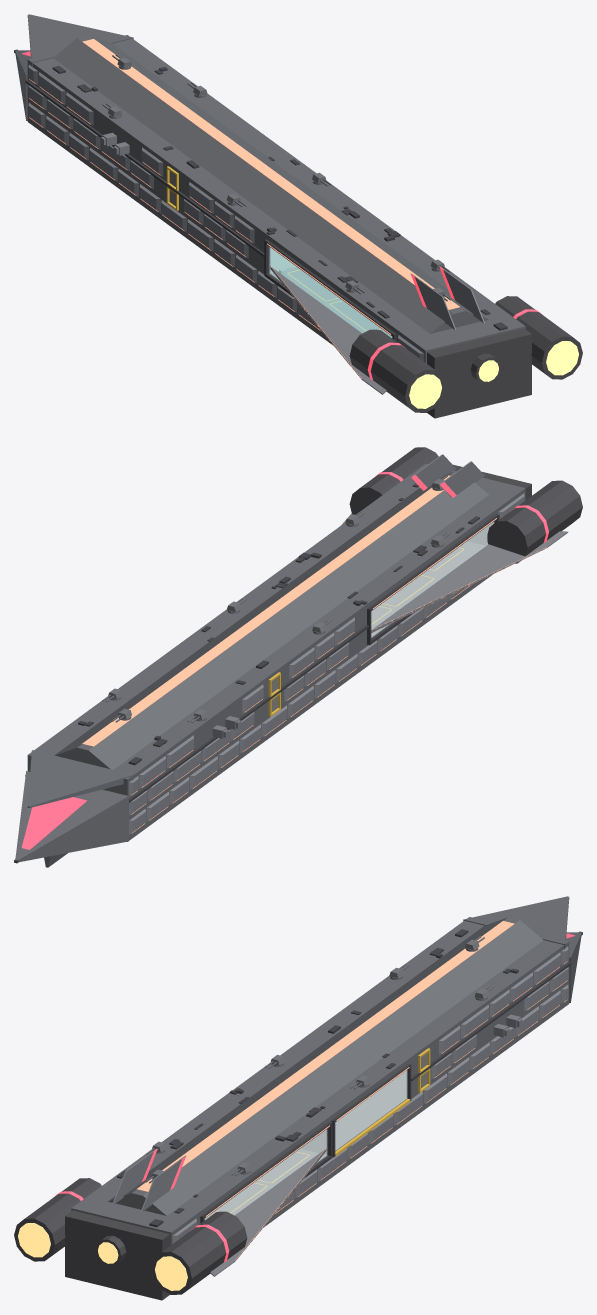
Rendered from ship_LARGE.glb.
3 views of the same model, one above another, from view 1: azimuth 30°, elevation 25°; view 2: azimuth 150°, elevation 25°; view 3: azimuth 330°, elevation 25° (orthographic).
Parts seen in each view (by area): view 1: LARGE_Hull-col, LARGE_Armor, LARGE_Engines, LARGE_Lights, LARGE_EngineGlow, LARGE_Trim, LARGE_HangarShield_Port, LARGE_Decks-col, LARGE_Details, LARGE_Accent; view 2: LARGE_Hull-col, LARGE_Armor, LARGE_Engines, LARGE_Lights, LARGE_HangarShield_Port, LARGE_Trim, LARGE_Accent, LARGE_Decks-col, LARGE_Details; view 3: LARGE_Hull-col, LARGE_Engines, LARGE_Armor, LARGE_Lights, LARGE_Trim, LARGE_EngineGlow, LARGE_CargoBayShield, LARGE_CargoBayDoor-col, LARGE_HangarShield_Starboard, LARGE_Decks-col, LARGE_Details, LARGE_Hazard (+1 smaller).
Part boxes in pixels (x1,y1,x2,y2): LARGE_Hull-col: [15, 14, 525, 412]; LARGE_Armor: [28, 64, 484, 394]; LARGE_Engines: [14, 49, 582, 418]; LARGE_Lights: [29, 39, 459, 378]; LARGE_EngineGlow: [409, 341, 578, 408]; LARGE_Trim: [25, 80, 396, 341]; LARGE_HangarShield_Port: [269, 247, 392, 337]; LARGE_Decks-col: [271, 267, 392, 337]; LARGE_Details: [52, 66, 507, 330]; LARGE_Accent: [22, 51, 543, 380]; LARGE_Hull-col: [15, 464, 525, 867]; LARGE_Armor: [129, 454, 568, 834]; LARGE_Engines: [14, 447, 582, 863]; LARGE_Lights: [82, 475, 546, 833]; LARGE_HangarShield_Port: [371, 522, 493, 636]; LARGE_Trim: [25, 514, 499, 802]; LARGE_Accent: [21, 472, 548, 849]; LARGE_Decks-col: [371, 541, 485, 635]; LARGE_Details: [78, 483, 479, 765]; LARGE_Hull-col: [71, 896, 581, 1294]; LARGE_Engines: [14, 931, 582, 1300]; LARGE_Armor: [112, 946, 568, 1276]; LARGE_Lights: [137, 921, 567, 1261]; LARGE_Trim: [200, 962, 571, 1223]; LARGE_EngineGlow: [18, 1223, 187, 1290]; LARGE_CargoBayShield: [335, 1070, 407, 1150]; LARGE_CargoBayDoor-col: [335, 1071, 406, 1149]; LARGE_HangarShield_Starboard: [204, 1129, 327, 1219]; LARGE_Decks-col: [204, 1149, 325, 1219]; LARGE_Details: [117, 929, 518, 1227]; LARGE_Hazard: [207, 1048, 430, 1217].
Size of the model in its own units: 40.71 by 22.95 by 182.
